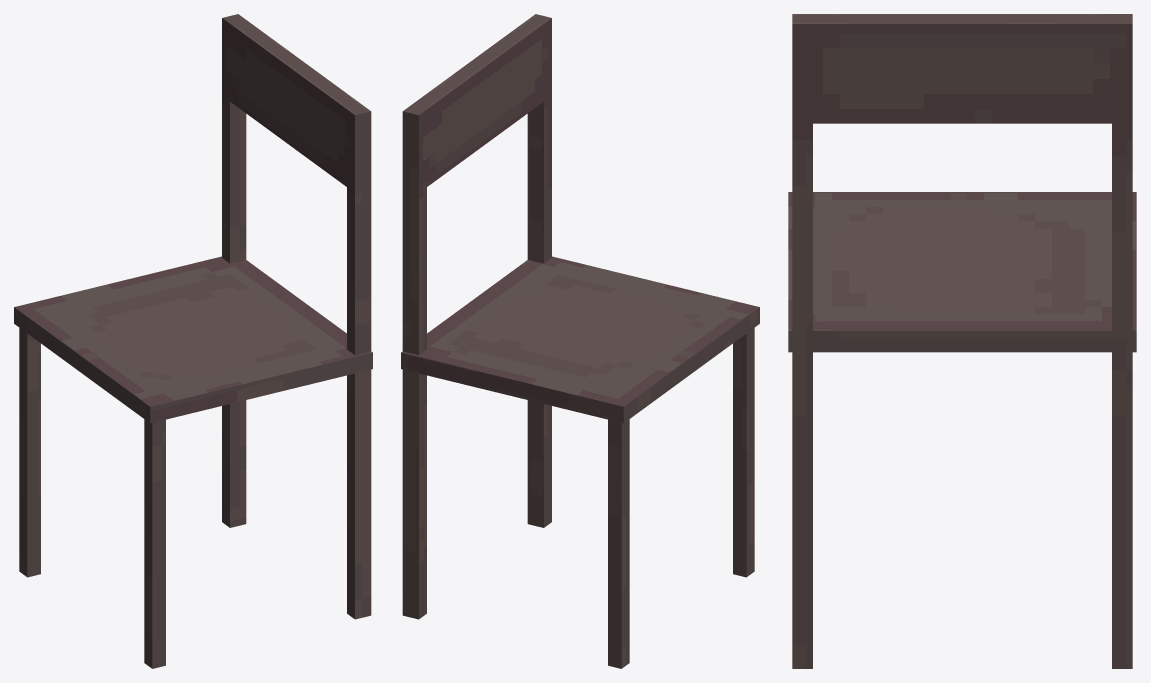
Rendered from Chair.fbx.
3 renders of one model, left to right at view 1: azimuth 30°, elevation 25°; view 2: azimuth 150°, elevation 25°; view 3: azimuth 270°, elevation 25°, orthographic. The views are drawn at different scales.
Visible parts, largest first — view 1: Cube.003; view 2: Cube.003; view 3: Cube.003.
Part boxes in pixels (bbox=[...]): Cube.003: bbox=[14, 14, 372, 668]; Cube.003: bbox=[401, 14, 759, 668]; Cube.003: bbox=[788, 14, 1136, 668].
Size of the model in its own units: 113 by 245 by 120.
1 material, 1 textured.
